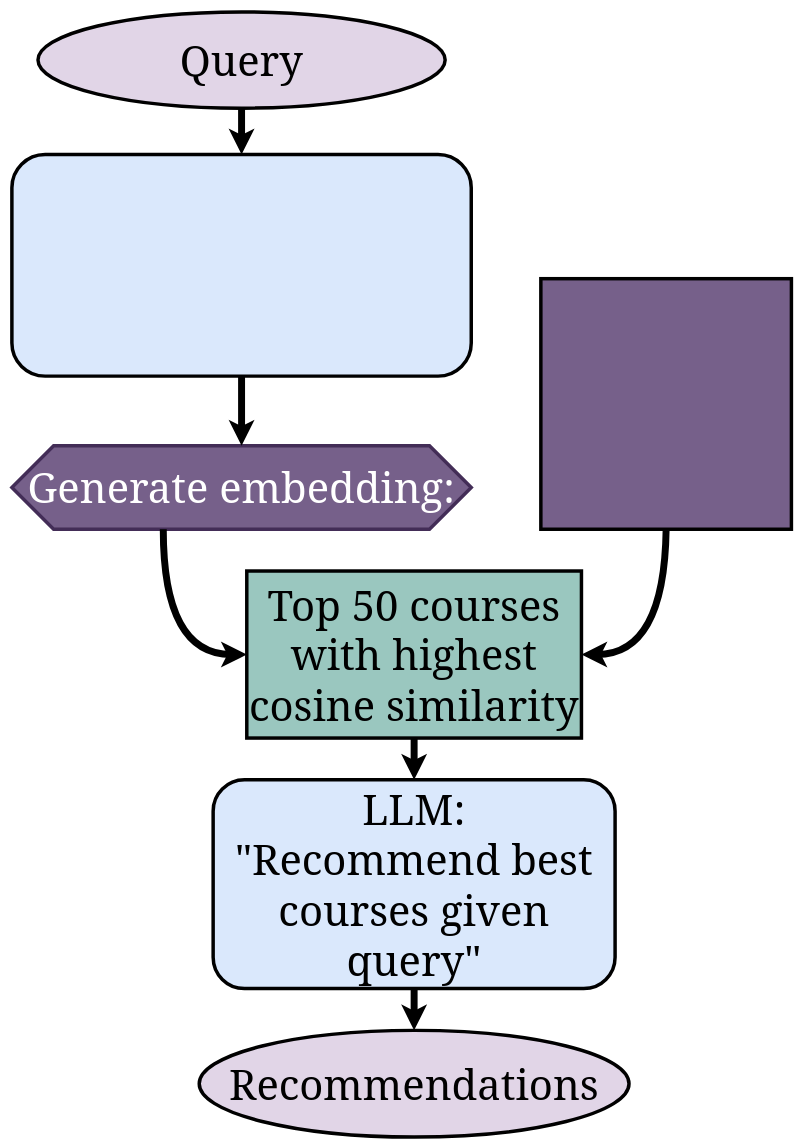
This 803x1148 diagram has some shape labels left out. The centre of each missing label's shape, as x and y in pixels:
Data frame of course description embeddings: [666,404]
LLM: "Generate an example course description": [241,265]
